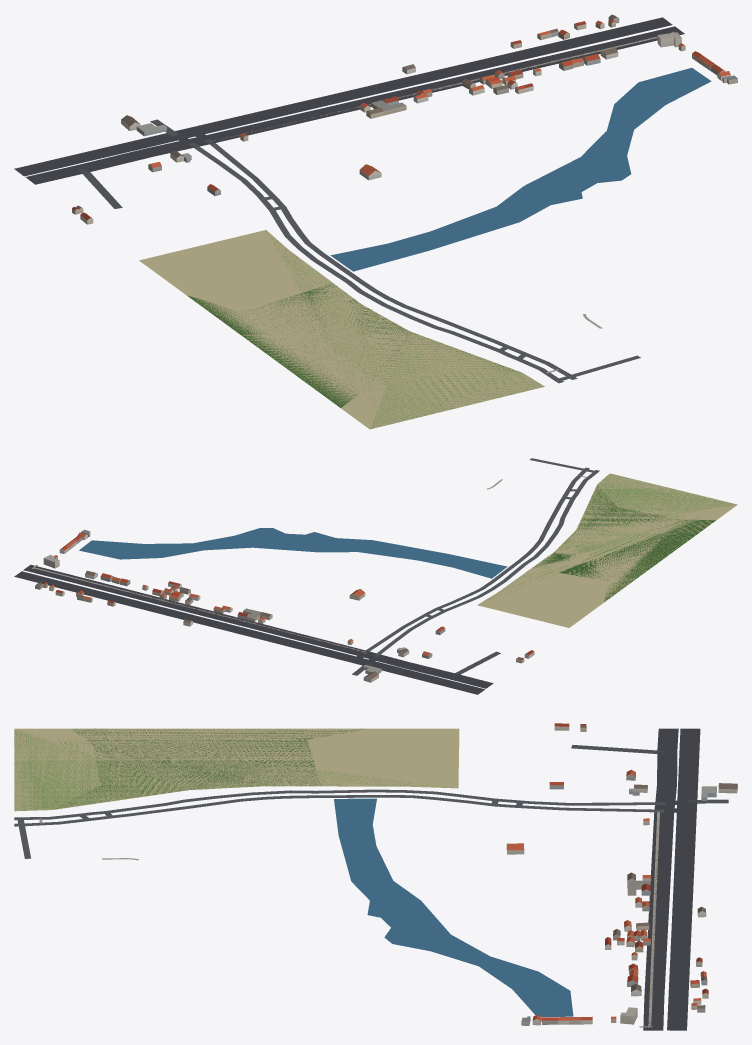
3 renders of one model, top to bottom at view 1: azimuth 30°, elevation 25°; view 2: azimuth 150°, elevation 25°; view 3: azimuth 270°, elevation 25°, orthographic. The views are drawn at different scales.
Parts seen in each view (by area): view 1: landuse, roads, water, buildings_walls, buildings_roofs; view 2: landuse, roads, water, buildings_walls, buildings_roofs; view 3: landuse, roads, water, buildings_roofs, buildings_walls.
Boxes of the visible parts, x1,y1,x2,y2 form: landuse: (139, 230, 544, 429); roads: (14, 17, 684, 383); water: (330, 68, 711, 271); buildings_walls: (72, 17, 737, 224); buildings_roofs: (72, 14, 737, 220); landuse: (477, 473, 737, 627); roads: (14, 458, 599, 694); water: (79, 528, 507, 578); buildings_walls: (35, 532, 534, 682); buildings_roofs: (36, 529, 534, 679); landuse: (14, 728, 459, 811); roads: (14, 728, 728, 1030); water: (334, 798, 573, 1016); buildings_roofs: (507, 723, 737, 1021); buildings_walls: (506, 726, 737, 1025).
Bounding box in the file's own units: 502 × 6.39 × 507.
